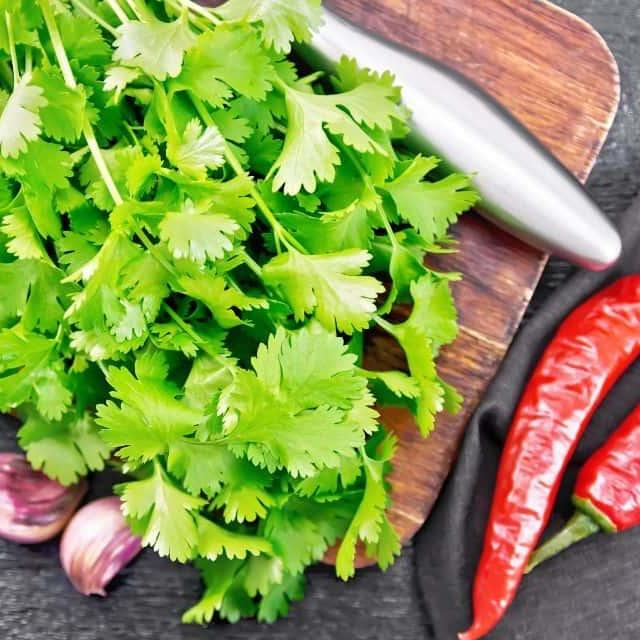cilantro: (0, 0, 398, 472)
